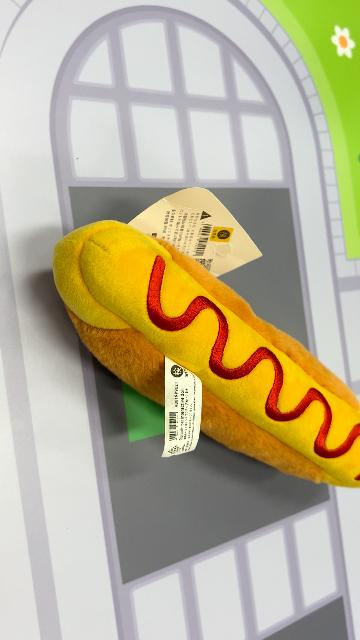hotdog: (52, 218, 358, 490)
